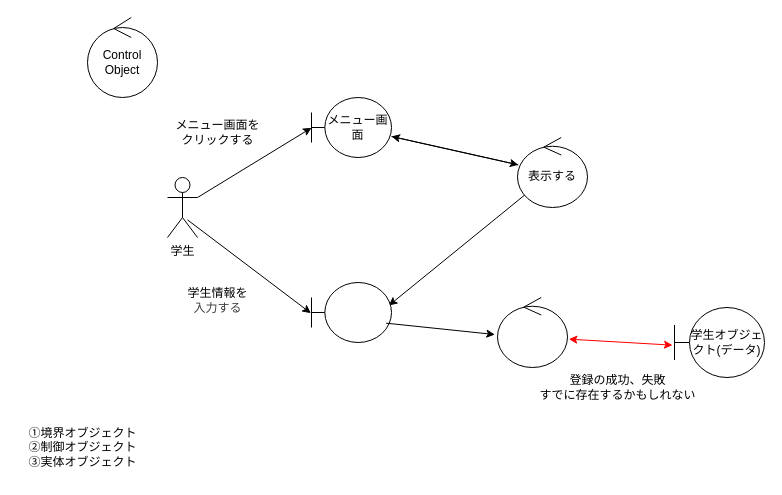
This 782x495 diagram has some shape labels left out. The shapes that lost their labels are listed below. From the top down, each one's centre as x and y in pixels, then its label:
At (351,312): "学生登録画面".
At (532,332): "学生情報を登録".
